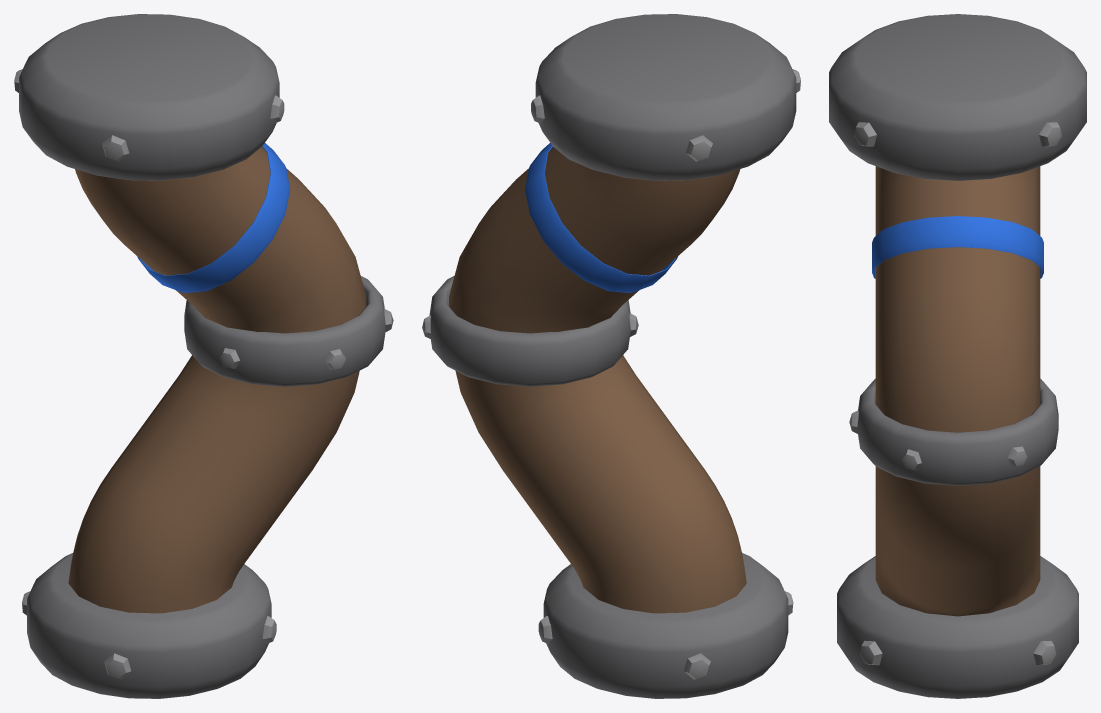
File: Kit_Limb_Curved_L.glb
The picture shows the model from 3 angles, left to right: view 1: azimuth 30°, elevation 25°; view 2: azimuth 150°, elevation 25°; view 3: azimuth 270°, elevation 25°; orthographic projection.
Visible parts, largest first — view 1: Kit_Limb_Curved_L; view 2: Kit_Limb_Curved_L; view 3: Kit_Limb_Curved_L.
Boxes of the visible parts, x1,y1,x2,y2 form: Kit_Limb_Curved_L: [14, 14, 393, 698]; Kit_Limb_Curved_L: [422, 14, 800, 698]; Kit_Limb_Curved_L: [829, 14, 1086, 698].
Size of the model in its own units: 0.2166 by 0.3659 by 0.1436.
